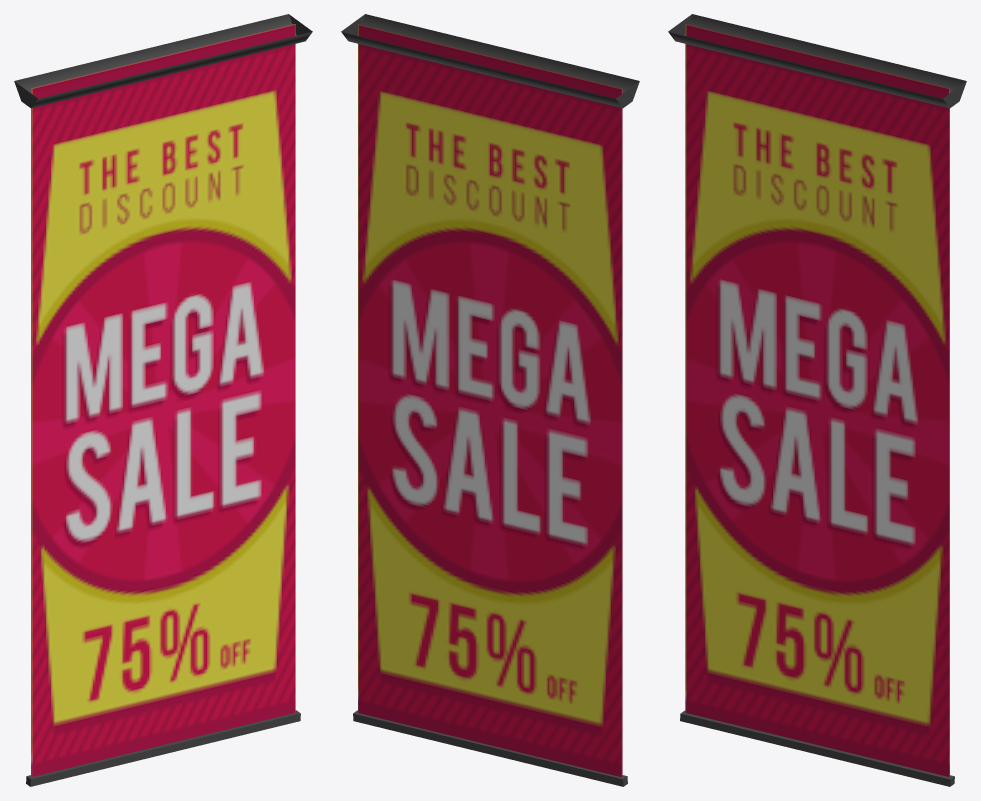
Rendered from SaleBannerA.fbx.
3 renders of one model, left to right at view 1: azimuth 30°, elevation 25°; view 2: azimuth 150°, elevation 25°; view 3: azimuth 330°, elevation 25°, orthographic.
Visible parts, largest first — view 1: SaleBannerA; view 2: SaleBannerA; view 3: SaleBannerA.
Part boxes in pixels (x1,y1,x2,y2): SaleBannerA: [14, 14, 312, 786]; SaleBannerA: [341, 14, 639, 786]; SaleBannerA: [668, 14, 966, 786].
Bounding box in the file's own units: 47.9 × 116 × 7.3.
